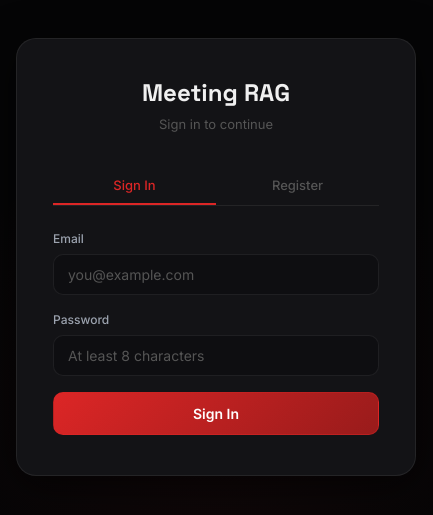
Scenario: AuthPage › shows password too short error
Type "abc" into the password field labelled "Password" at (216, 355), box [53,335,379,376]
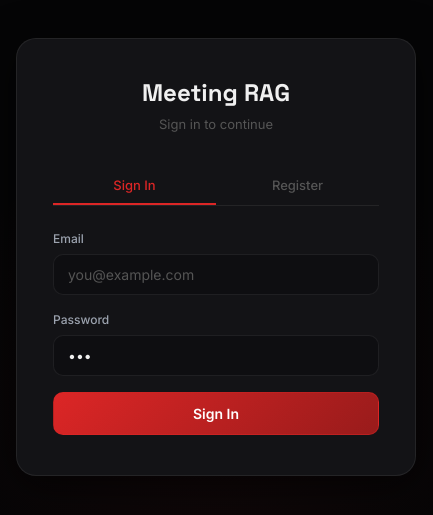
Click the button "Sign In" below "Password" at (216, 413), box [53,392,379,435]
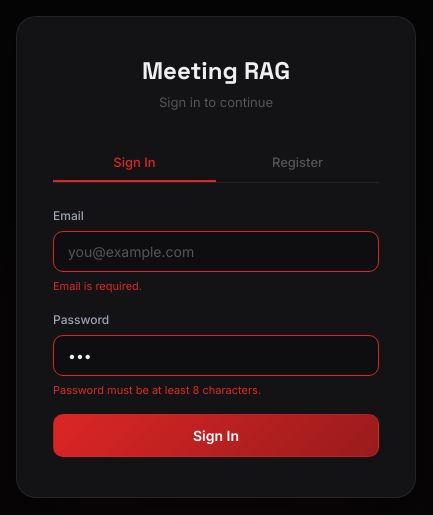
expect the text "Password must be at least 8 characters." is shown: met, box [53,383,261,397]
